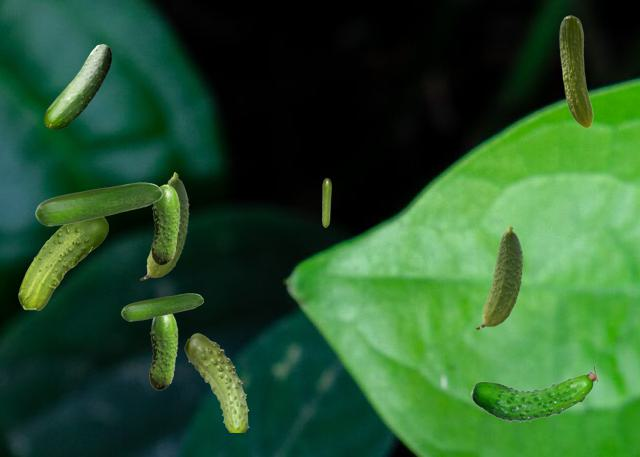cucumber: (18, 217, 107, 309), (470, 365, 596, 421), (184, 333, 248, 431), (44, 44, 110, 128), (35, 182, 161, 225), (140, 172, 188, 279), (476, 225, 522, 328), (559, 15, 592, 127), (151, 184, 179, 264), (121, 293, 202, 320), (149, 314, 177, 389), (322, 178, 330, 226)
